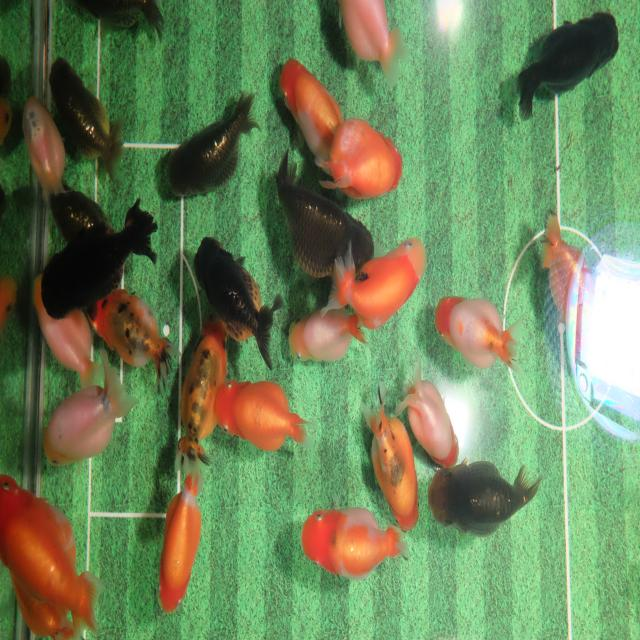Goldfish: (0, 472, 102, 636), (39, 194, 159, 325), (272, 147, 375, 282), (192, 234, 284, 373), (515, 9, 620, 122), (41, 350, 137, 470), (164, 92, 260, 202), (538, 206, 598, 370), (48, 54, 124, 183), (424, 458, 545, 537), (320, 235, 428, 322), (358, 380, 418, 534), (31, 273, 106, 392), (90, 285, 171, 393), (301, 506, 411, 584), (214, 377, 317, 460), (434, 294, 522, 382), (175, 318, 228, 462), (156, 465, 204, 616), (278, 57, 343, 166), (335, 0, 411, 92), (318, 116, 405, 196), (400, 357, 461, 470), (19, 90, 67, 202), (9, 569, 82, 640), (288, 307, 368, 368), (74, 0, 164, 44)
